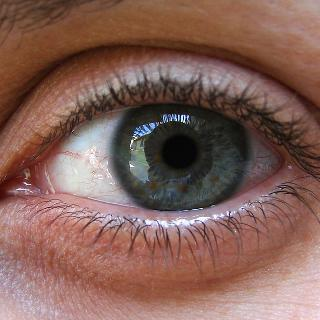pupil: (163, 136, 197, 169)
